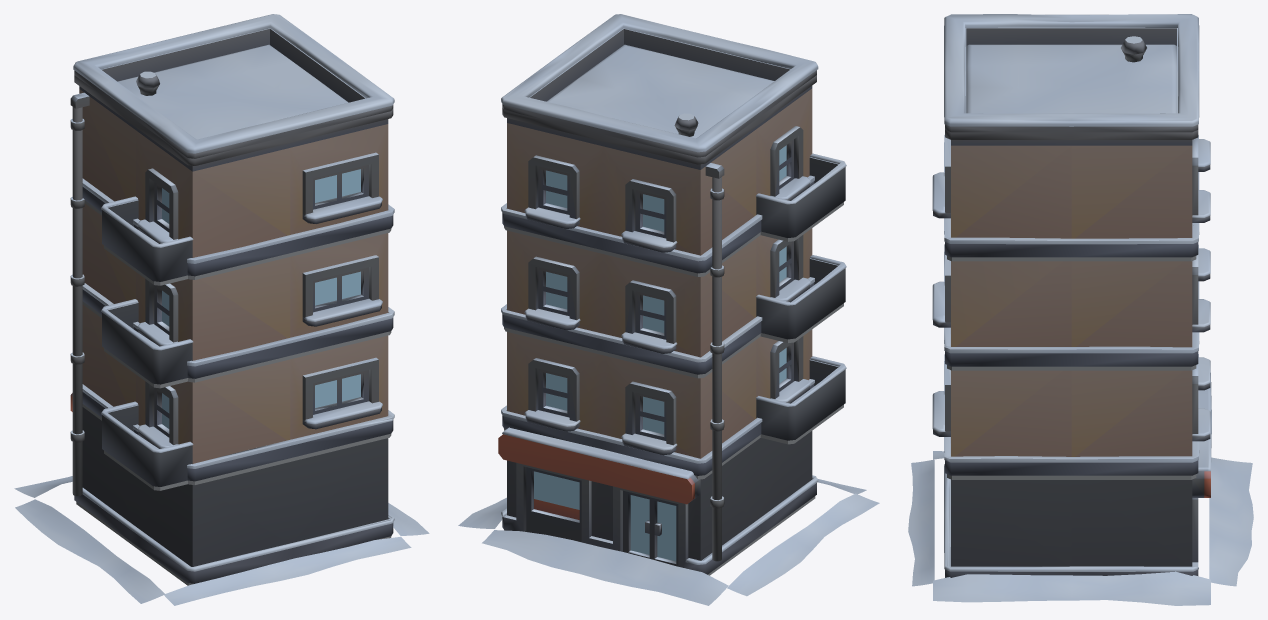
File: bldg_g.glb
3 renders of one model, left to right at view 1: azimuth 30°, elevation 25°; view 2: azimuth 150°, elevation 25°; view 3: azimuth 270°, elevation 25°, orthographic. The views are drawn at different scales.
Visible parts, largest first — view 1: Base, Roof; view 2: Base, Roof; view 3: Base, Roof.
Boxes of the visible parts, x1,y1,x2,y2 form: Base: (14, 34, 429, 605); Roof: (73, 14, 394, 158); Base: (458, 34, 879, 605); Roof: (501, 14, 818, 157); Base: (908, 34, 1253, 605); Roof: (944, 14, 1199, 132).
Size of what is drawn, in the model's own units: 11.63 by 16.33 by 10.9.
